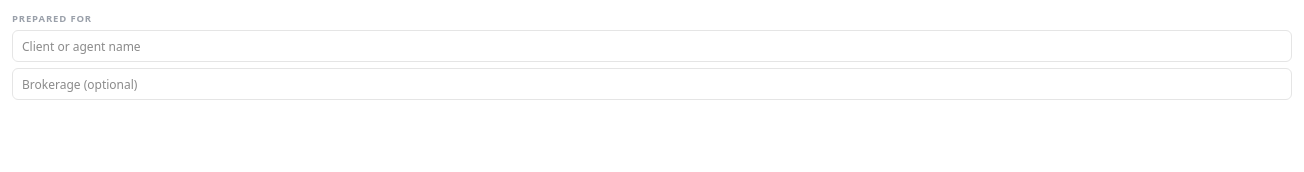
Test case: a pooled list says whose name it is › still fills the brokerage from a colleague’s entry
The image size is (1304, 172).
Step 1. Focus the dropdown → (652, 46), box x1=12 y1=30 x2=1292 y2=62
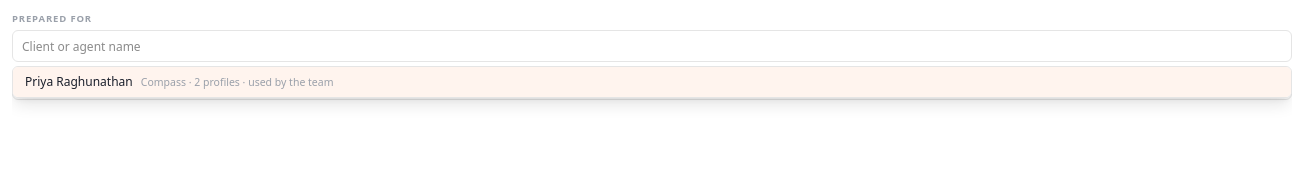
Check: the number of options is 1
Step 2. Press the mouse on the option → (79, 82), box x1=13 y1=67 x2=1291 y2=97
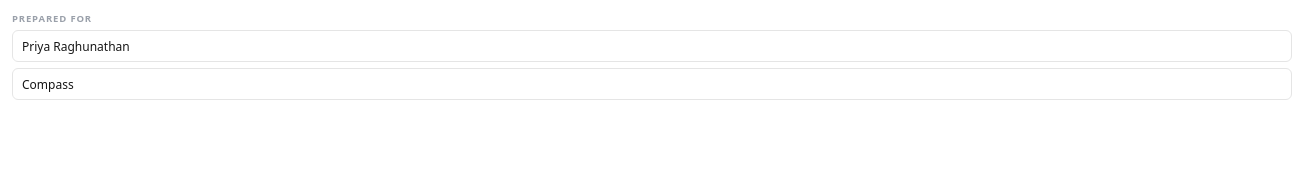
Check: the dropdown holds "Priya Raghunathan", box x1=12 y1=30 x2=1292 y2=62
Check: the field named "Brokerage" holds "Compass", box x1=12 y1=68 x2=1292 y2=100
